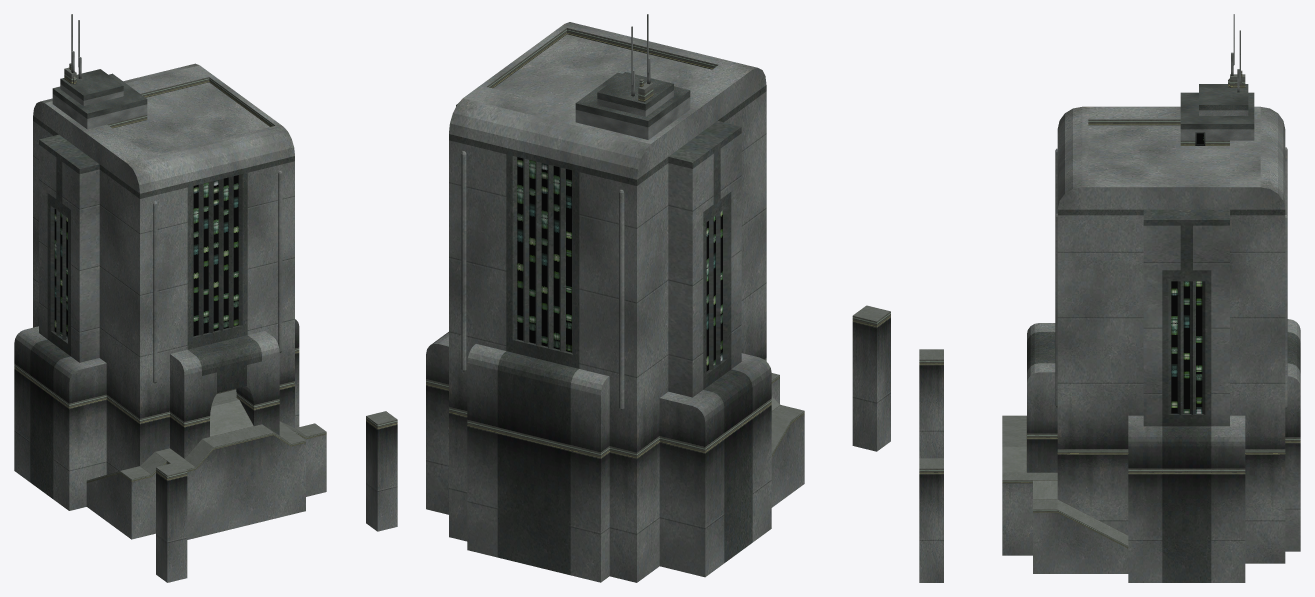
Rendered from ply_corl_capitol_s01_r0_mesh_l1.fbx.
3 views of the same model, side by side, from view 1: azimuth 30°, elevation 25°; view 2: azimuth 150°, elevation 25°; view 3: azimuth 270°, elevation 25° (orthographic). The views are drawn at different scales.
Parts seen in each view (by area): view 1: mesh_node; view 2: mesh_node; view 3: mesh_node.
Boxes of the visible parts, x1,y1,x2,y2 form: mesh_node: (14,14,397,582); mesh_node: (426,14,890,582); mesh_node: (919,14,1300,582).
Bounding box in the file's own units: 46 × 85.5 × 62.01.
